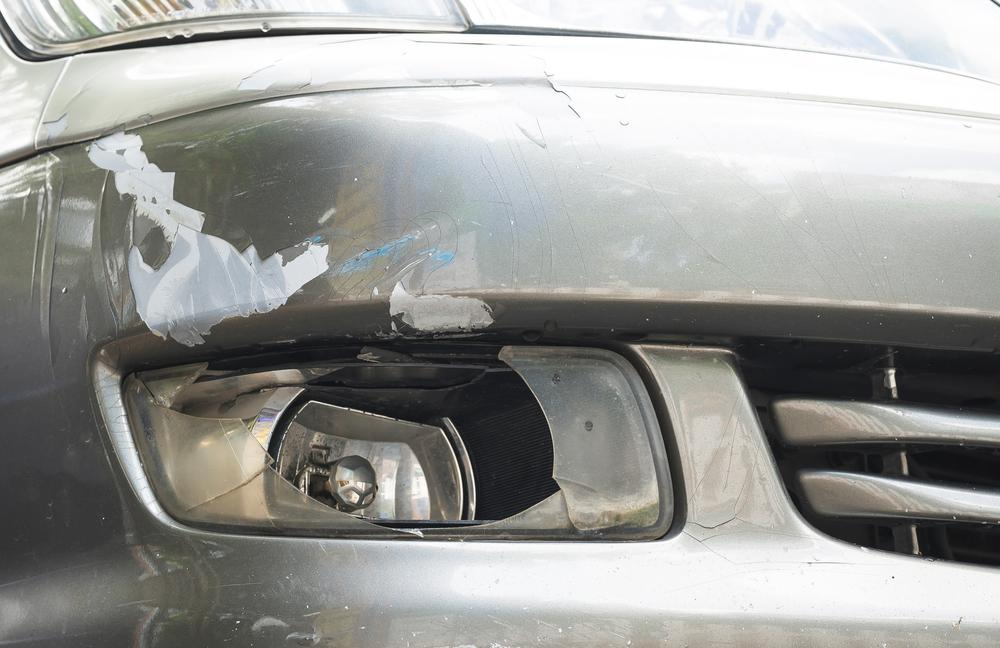lamp broken: (118, 337, 682, 544)
scratch: (88, 120, 518, 350)
